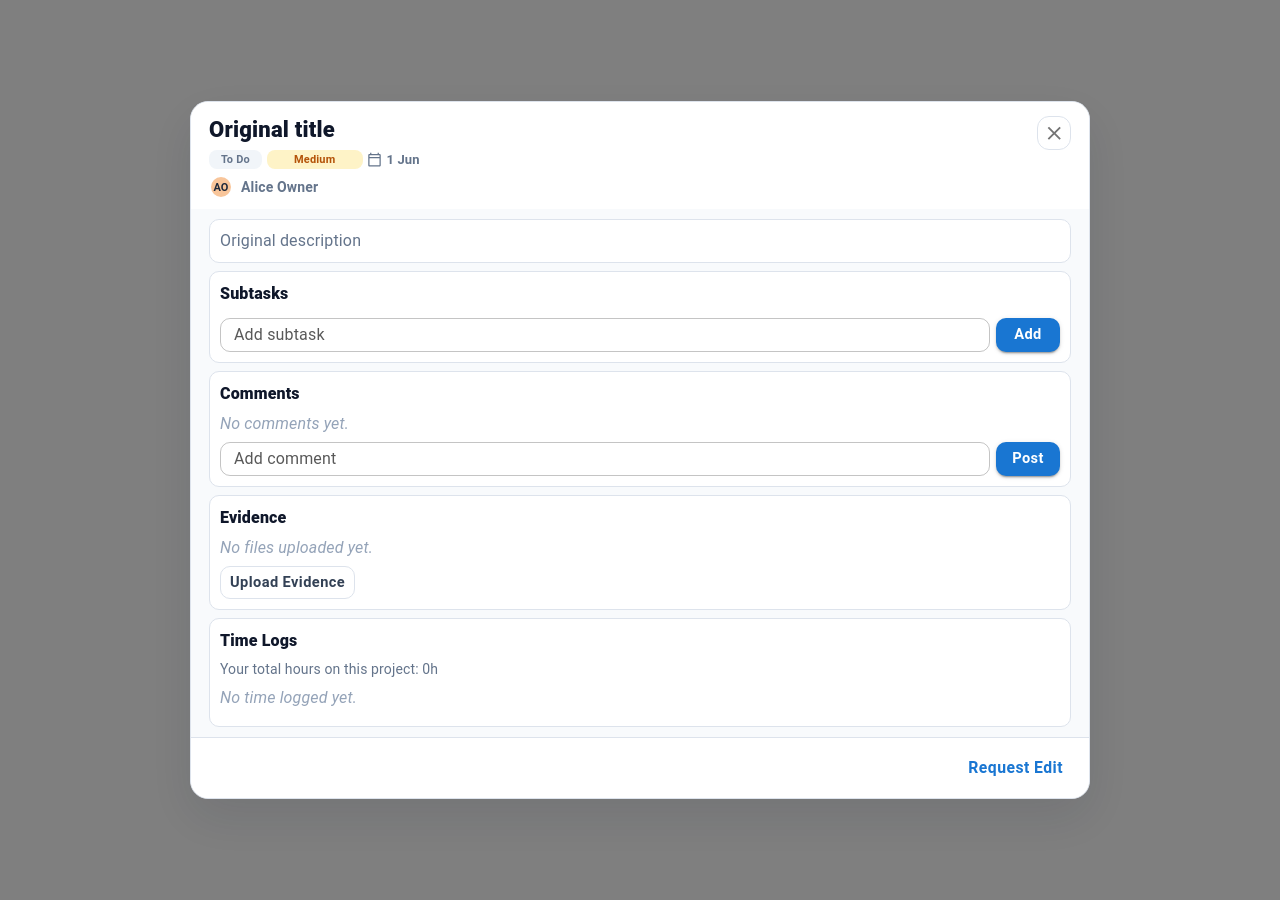
Test case: TaskDetailModal task metadata › shows request edit controls for non-owner non-assignee members
Click the button "Request Edit".
click(1016, 768)  # box [960,748,1071,788]
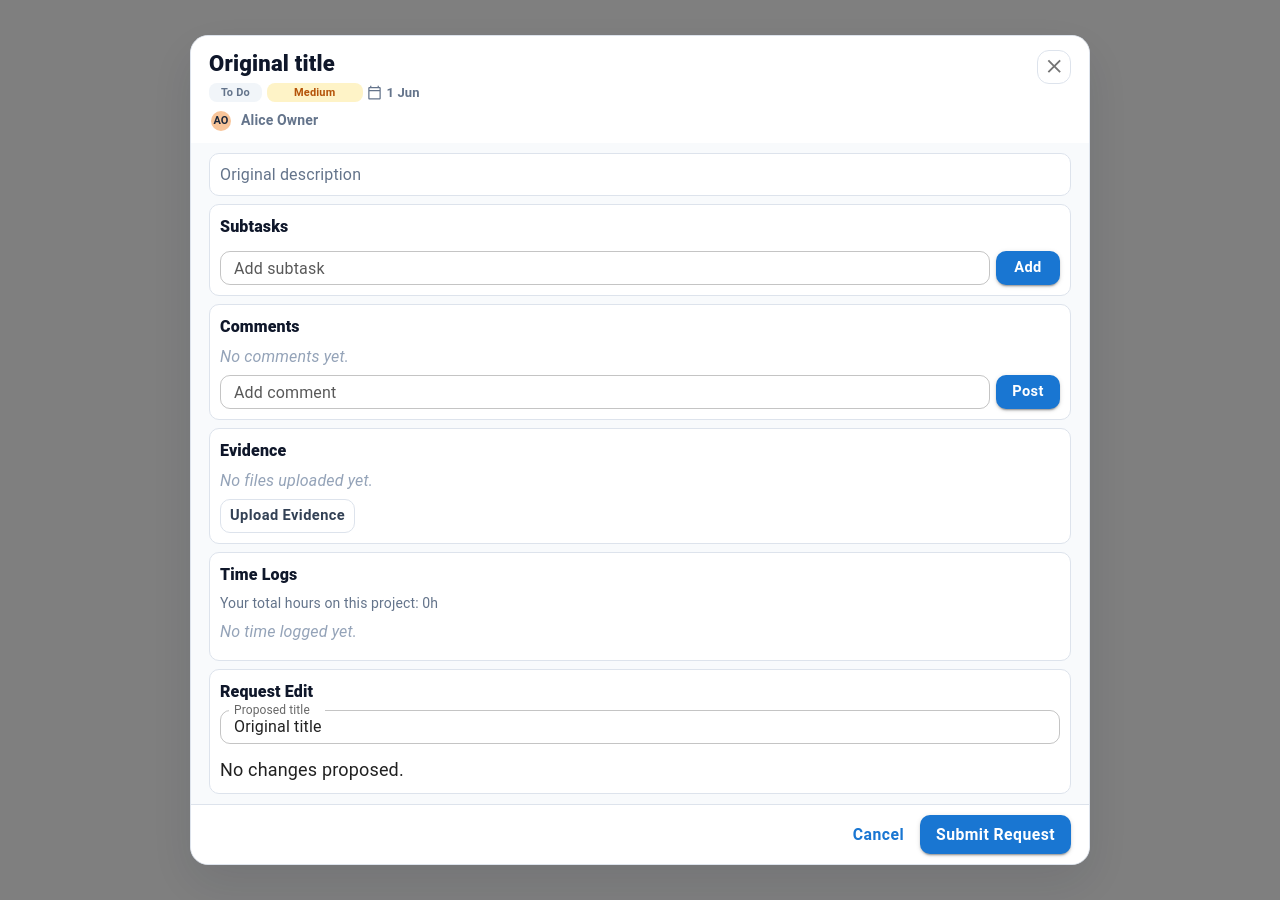
Now the field labelled "Proposed title" is shown, box [220,709,1060,744]
